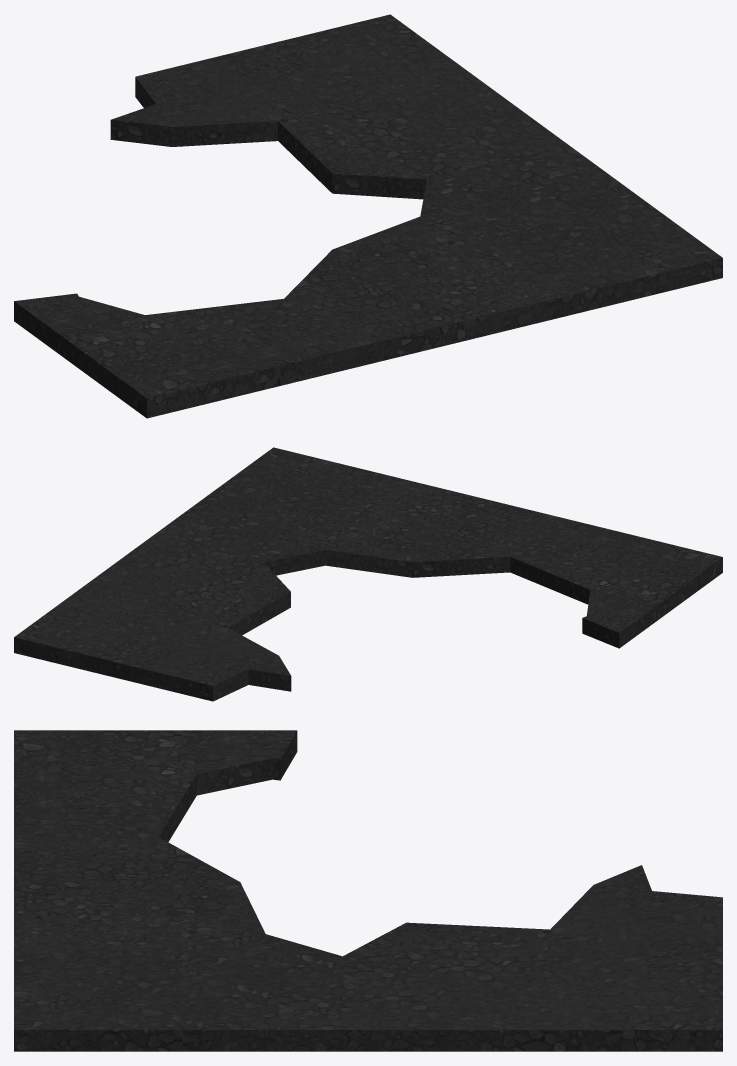
Rendered from roof_flat_destroyed05.fbx.
3 renders of one model, top to bottom at view 1: azimuth 30°, elevation 25°; view 2: azimuth 150°, elevation 25°; view 3: azimuth 270°, elevation 25°, orthographic. The views are drawn at different scales.
Visible parts, largest first — view 1: roof_flat_destroyed05; view 2: roof_flat_destroyed05; view 3: roof_flat_destroyed05.
Part boxes in pixels (bbox=[...]): roof_flat_destroyed05: bbox=[14, 14, 722, 418]; roof_flat_destroyed05: bbox=[14, 447, 722, 701]; roof_flat_destroyed05: bbox=[14, 730, 722, 1051].
Bounding box in the file's own units: 300 × 10 × 300.
